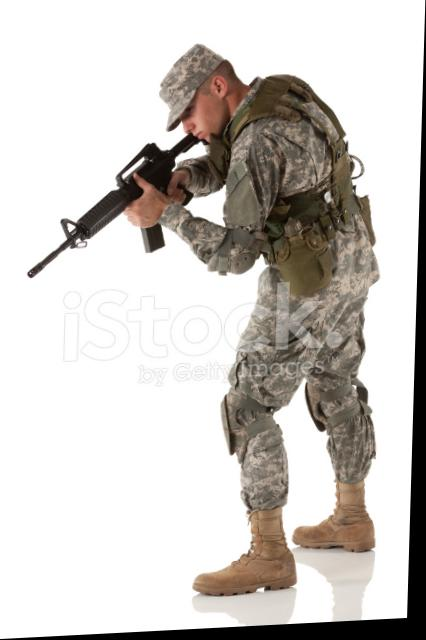other: (133, 37, 383, 607)
